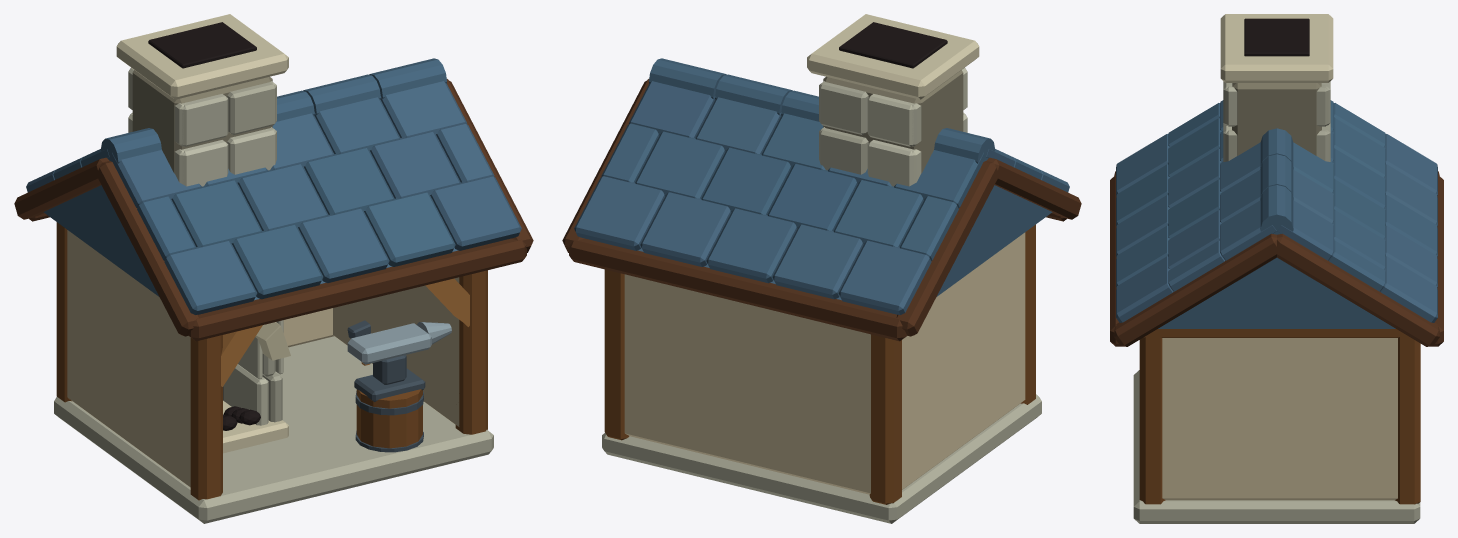
The model's file is smithy.glb.
3 renders of one model, left to right at view 1: azimuth 30°, elevation 25°; view 2: azimuth 150°, elevation 25°; view 3: azimuth 270°, elevation 25°, orthographic. The views are drawn at different scales.
Visible parts, largest first — view 1: Stone, Roof, Timber, Metal; view 2: Stone, Roof, Timber; view 3: Stone, Roof, Timber.
Boxes of the visible parts, bbox=[...] form: Stone: bbox=[54, 14, 493, 523]; Roof: bbox=[26, 58, 521, 314]; Timber: bbox=[14, 79, 533, 500]; Metal: bbox=[347, 320, 451, 452]; Stone: bbox=[602, 14, 1041, 523]; Roof: bbox=[574, 58, 1069, 314]; Timber: bbox=[562, 79, 1081, 504]; Stone: bbox=[1133, 14, 1420, 523]; Roof: bbox=[1116, 100, 1437, 328]; Timber: bbox=[1110, 171, 1443, 504].
Bounding box in the file's own units: 3.42 × 3.81 × 2.96.
